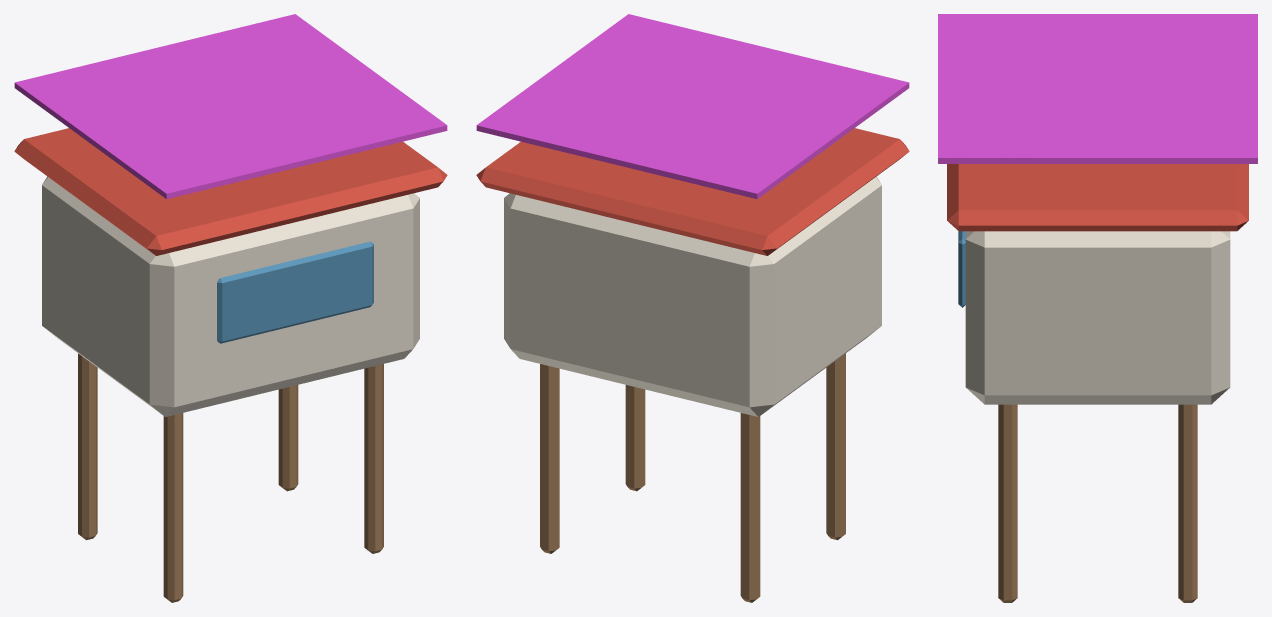
File: lifeguard_tower_lod2_v1.glb
3 renders of one model, left to right at view 1: azimuth 30°, elevation 25°; view 2: azimuth 150°, elevation 25°; view 3: azimuth 270°, elevation 25°, orthographic. The views are drawn at different scales.
Parts seen in each view (by area): view 1: LOD2_LIFEGUARD_TOWER_Cabin, NAV_MASK_LIFEGUARD_TOWER, LOD2_LIFEGUARD_TOWER_Roof, LOD2_LIFEGUARD_TOWER_Window, LOD2_LIFEGUARD_TOWER_Leg, LOD2_LIFEGUARD_TOWER_Leg.002, LOD2_LIFEGUARD_TOWER_Leg.001, LOD2_LIFEGUARD_TOWER_Leg.003; view 2: LOD2_LIFEGUARD_TOWER_Cabin, NAV_MASK_LIFEGUARD_TOWER, LOD2_LIFEGUARD_TOWER_Roof, LOD2_LIFEGUARD_TOWER_Leg.001, LOD2_LIFEGUARD_TOWER_Leg.003, LOD2_LIFEGUARD_TOWER_Leg, LOD2_LIFEGUARD_TOWER_Leg.002; view 3: NAV_MASK_LIFEGUARD_TOWER, LOD2_LIFEGUARD_TOWER_Cabin, LOD2_LIFEGUARD_TOWER_Roof, LOD2_LIFEGUARD_TOWER_Leg.002, LOD2_LIFEGUARD_TOWER_Leg.003, LOD2_LIFEGUARD_TOWER_Window.
Part boxes in pixels (<box>): LOD2_LIFEGUARD_TOWER_Cabin: <box>42,176,419,416</box>; NAV_MASK_LIFEGUARD_TOWER: <box>14,14,447,199</box>; LOD2_LIFEGUARD_TOWER_Roof: <box>14,128,447,255</box>; LOD2_LIFEGUARD_TOWER_Window: <box>217,241,373,343</box>; LOD2_LIFEGUARD_TOWER_Leg: <box>163,413,183,602</box>; LOD2_LIFEGUARD_TOWER_Leg.002: <box>364,364,383,553</box>; LOD2_LIFEGUARD_TOWER_Leg.001: <box>78,353,97,540</box>; LOD2_LIFEGUARD_TOWER_Leg.003: <box>278,385,298,491</box>; LOD2_LIFEGUARD_TOWER_Cabin: <box>504,176,881,416</box>; NAV_MASK_LIFEGUARD_TOWER: <box>476,14,909,199</box>; LOD2_LIFEGUARD_TOWER_Roof: <box>476,128,909,255</box>; LOD2_LIFEGUARD_TOWER_Leg.001: <box>740,413,760,602</box>; LOD2_LIFEGUARD_TOWER_Leg.003: <box>540,364,559,553</box>; LOD2_LIFEGUARD_TOWER_Leg: <box>826,353,845,540</box>; LOD2_LIFEGUARD_TOWER_Leg.002: <box>625,385,645,491</box>; NAV_MASK_LIFEGUARD_TOWER: <box>938,14,1257,163</box>; LOD2_LIFEGUARD_TOWER_Cabin: <box>965,231,1230,404</box>; LOD2_LIFEGUARD_TOWER_Roof: <box>947,164,1248,231</box>; LOD2_LIFEGUARD_TOWER_Leg.002: <box>998,404,1017,602</box>; LOD2_LIFEGUARD_TOWER_Leg.003: <box>1178,404,1197,602</box>; LOD2_LIFEGUARD_TOWER_Window: <box>958,231,965,307</box>.
Size of what is drawn, in the model's own units: 3.45 by 4.83 by 3.02.
